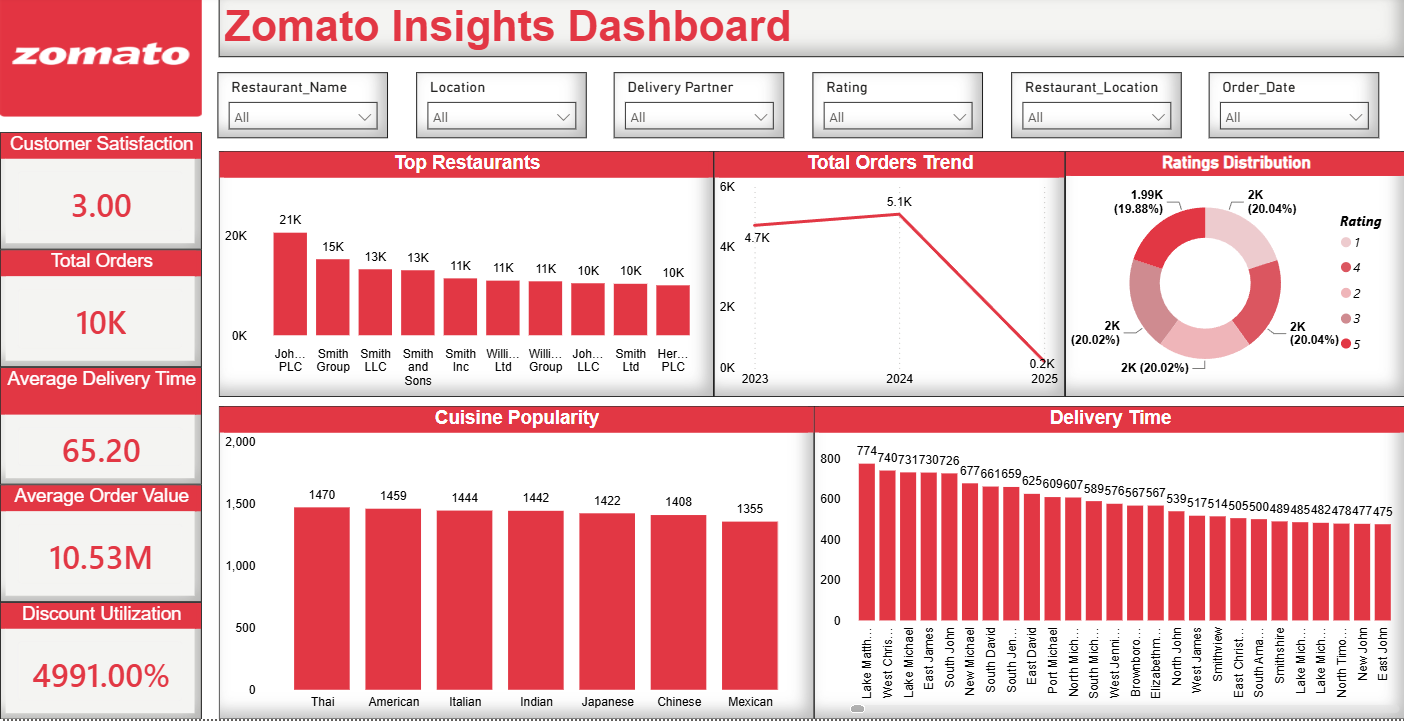

The dashboard page shown, as its layout file describes it:
{"tool":"powerbi","page":{"name":"Zomato Insights Dashboard","canvas":[1400,720],"ordinal":1},"visuals":[{"type":"cardVisual","title":"Total Orders ","fields":{"Data":["CountNonNull(Sheet1.Order_ID)"]},"box":[0,252.3,201,116.9],"z":0,"group":"g4"},{"type":"cardVisual","title":"Average Delivery Time ","fields":{"Data":["Avg(Sheet1.Delivery_Time_Minutes)"]},"box":[0,369.2,201,116.9],"z":1000},{"type":"cardVisual","title":"Average Order Value ","fields":{"Data":["Sum(Sheet1.Order_Amount)"]},"box":[0,486,201,116.9],"z":2000,"group":"g4"},{"type":"cardVisual","title":"Customer Satisfaction","fields":{"Data":["Avg(Sheet1.Rating)"]},"box":[0,135.4,201,116.9],"z":3000,"group":"g4"},{"type":"cardVisual","title":"Discount Utilization","fields":{"Data":["Sheet1.Discount Utilization(%)"]},"box":[0,602.9,201,116.9],"z":4000,"group":"g4"},{"type":"lineChart","title":"Total Orders Trend ","fields":{"Category":["Sheet1.Order_Date.Variation.Date Hierarchy.Year"],"Y":["CountNonNull(Sheet1.Order_ID)"]},"box":[711,154,349.2,244.8],"z":5000,"group":"g2"},{"type":"columnChart","title":"Delivery Time ","fields":{"Category":["Sheet1.Customer_Location"],"Y":["Sum(Sheet1.Delivery_Time_Minutes)"]},"box":[810.7,408.2,589.3,311.8],"z":6000,"group":"g3"},{"type":"columnChart","title":"Top Restaurants","fields":{"Category":["Sheet1.Restaurant_Name"],"Y":["Sum(Sheet1.Order_Amount)"]},"box":[218.3,154,492.7,244.8],"z":7000,"group":"g2"},{"type":"donutChart","title":"Ratings Distribution ","fields":{"Category":["Sheet1.Rating"],"Y":["CountNonNull(Sheet1.Order_ID)"]},"box":[1060.2,154,339.9,244.8],"z":8000,"group":"g2"},{"type":"columnChart","title":"Cuisine Popularity","fields":{"Category":["Sheet1.Cuisine"],"Y":["CountNonNull(Sheet1.Order_ID)"]},"box":[218.3,408.2,592.4,311.8],"z":9000,"group":"g3"},{"type":"textbox","box":[218.3,0,1181.7,60.8],"z":9001},{"type":"image","box":[0,0,201.1,120],"z":9002},{"type":"slicer","fields":{"Values":["Sheet1.Restaurant_Name"]},"box":[217,76.4,169.9,65.5],"z":9003,"group":"g1"},{"type":"slicer","fields":{"Values":["Sheet1.Restaurant_Location"]},"box":[414.4,76.4,169.9,65.5],"z":9004,"group":"g1"},{"type":"slicer","fields":{"Values":["Sheet1.Delivery_Partner"]},"box":[611.7,76.4,169.9,65.5],"z":9005,"group":"g1"},{"type":"slicer","fields":{"Values":["Sheet1.Rating"]},"box":[809.1,76.4,169.9,65.5],"z":9006,"group":"g1"},{"type":"slicer","fields":{"Values":["Sheet1.Restaurant_Location"]},"box":[1006.5,76.4,169.9,65.5],"z":9007,"group":"g1"},{"type":"slicer","fields":{"Values":["Sheet1.Order_Date"]},"box":[1203.9,76.4,169.9,65.5],"z":9008,"group":"g1"},{"type":"group","id":"g1","title":"Group 1","box":[217,76.4,1156.8,65.5],"z":9009},{"type":"group","id":"g2","title":"Group 2","box":[218.3,154,1181.7,244.8],"z":9010},{"type":"group","id":"g3","title":"Group 3","box":[218.3,408.2,1181.7,311.8],"z":9011},{"type":"group","id":"g4","title":"Group 4","box":[0,135.4,201,584.4],"z":9012}]}

Visuals, with their boxes in screenshot pixels (x1, y1, x2, y2), scaled from the page's 1400x720 canvas onto the 1404x721 screenshot:
"Total Orders " cardVisual: {"x1": 0, "y1": 253, "x2": 202, "y2": 370}
"Average Delivery Time " cardVisual: {"x1": 0, "y1": 370, "x2": 202, "y2": 487}
"Average Order Value " cardVisual: {"x1": 0, "y1": 487, "x2": 202, "y2": 604}
"Customer Satisfaction" cardVisual: {"x1": 0, "y1": 136, "x2": 202, "y2": 253}
"Discount Utilization" cardVisual: {"x1": 0, "y1": 604, "x2": 202, "y2": 720}
"Total Orders Trend " lineChart: {"x1": 713, "y1": 154, "x2": 1063, "y2": 399}
"Delivery Time " columnChart: {"x1": 813, "y1": 409, "x2": 1403, "y2": 720}
"Top Restaurants" columnChart: {"x1": 219, "y1": 154, "x2": 713, "y2": 399}
"Ratings Distribution " donutChart: {"x1": 1063, "y1": 154, "x2": 1403, "y2": 399}
"Cuisine Popularity" columnChart: {"x1": 219, "y1": 409, "x2": 813, "y2": 720}
textbox: {"x1": 219, "y1": 0, "x2": 1403, "y2": 61}
image: {"x1": 0, "y1": 0, "x2": 202, "y2": 120}
slicer - Sheet1.Restaurant_Name: {"x1": 218, "y1": 77, "x2": 388, "y2": 142}
slicer - Sheet1.Restaurant_Location: {"x1": 416, "y1": 77, "x2": 586, "y2": 142}
slicer - Sheet1.Delivery_Partner: {"x1": 613, "y1": 77, "x2": 784, "y2": 142}
slicer - Sheet1.Rating: {"x1": 811, "y1": 77, "x2": 982, "y2": 142}
slicer - Sheet1.Restaurant_Location: {"x1": 1009, "y1": 77, "x2": 1180, "y2": 142}
slicer - Sheet1.Order_Date: {"x1": 1207, "y1": 77, "x2": 1378, "y2": 142}
"Group 1" group: {"x1": 218, "y1": 77, "x2": 1378, "y2": 142}
"Group 2" group: {"x1": 219, "y1": 154, "x2": 1403, "y2": 399}
"Group 3" group: {"x1": 219, "y1": 409, "x2": 1403, "y2": 720}
"Group 4" group: {"x1": 0, "y1": 136, "x2": 202, "y2": 720}
